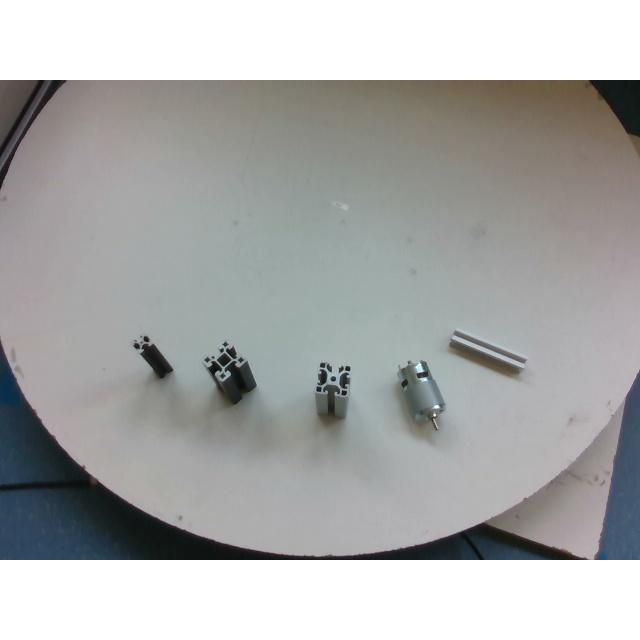F20_20_B: (132, 335, 172, 377)
F20_20_G: (450, 330, 526, 370)
Motor2: (398, 360, 446, 430)
S40_40_B: (204, 340, 256, 404)
S40_40_G: (314, 362, 350, 418)
